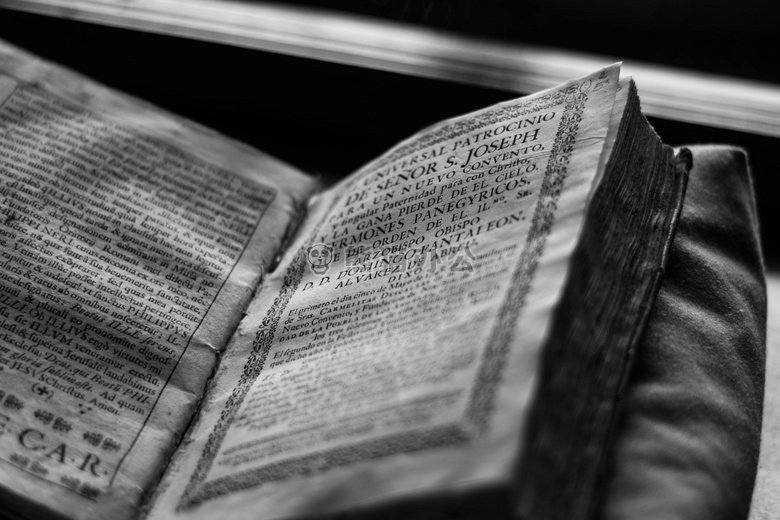book: (0, 20, 697, 513)
